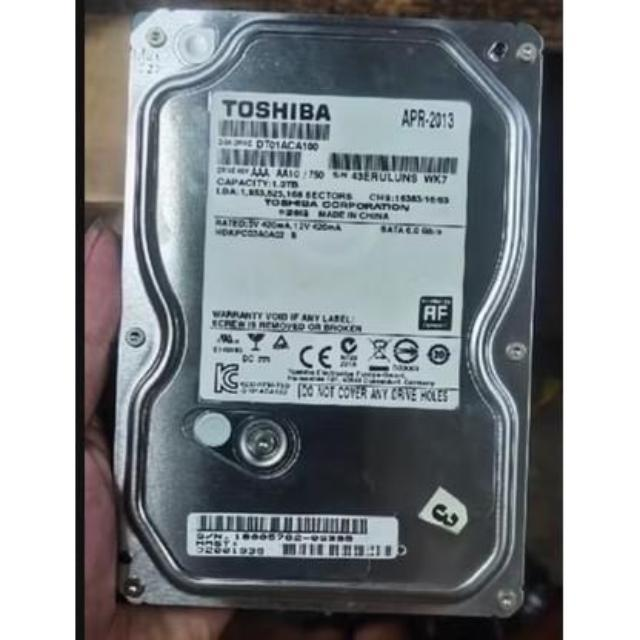DISK: (118, 16, 527, 616)
